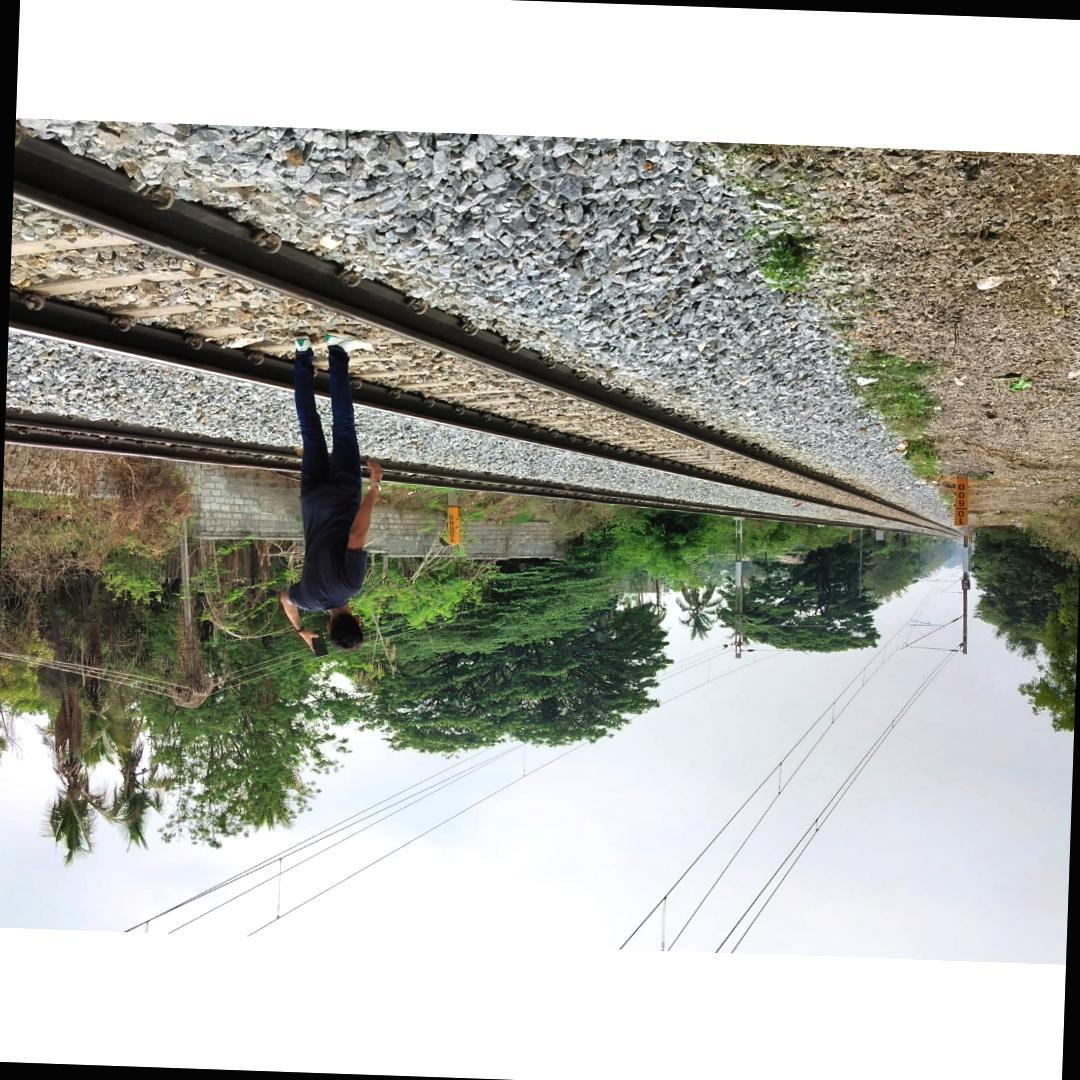standing: (265, 330, 398, 664)
track: (8, 116, 960, 538)
